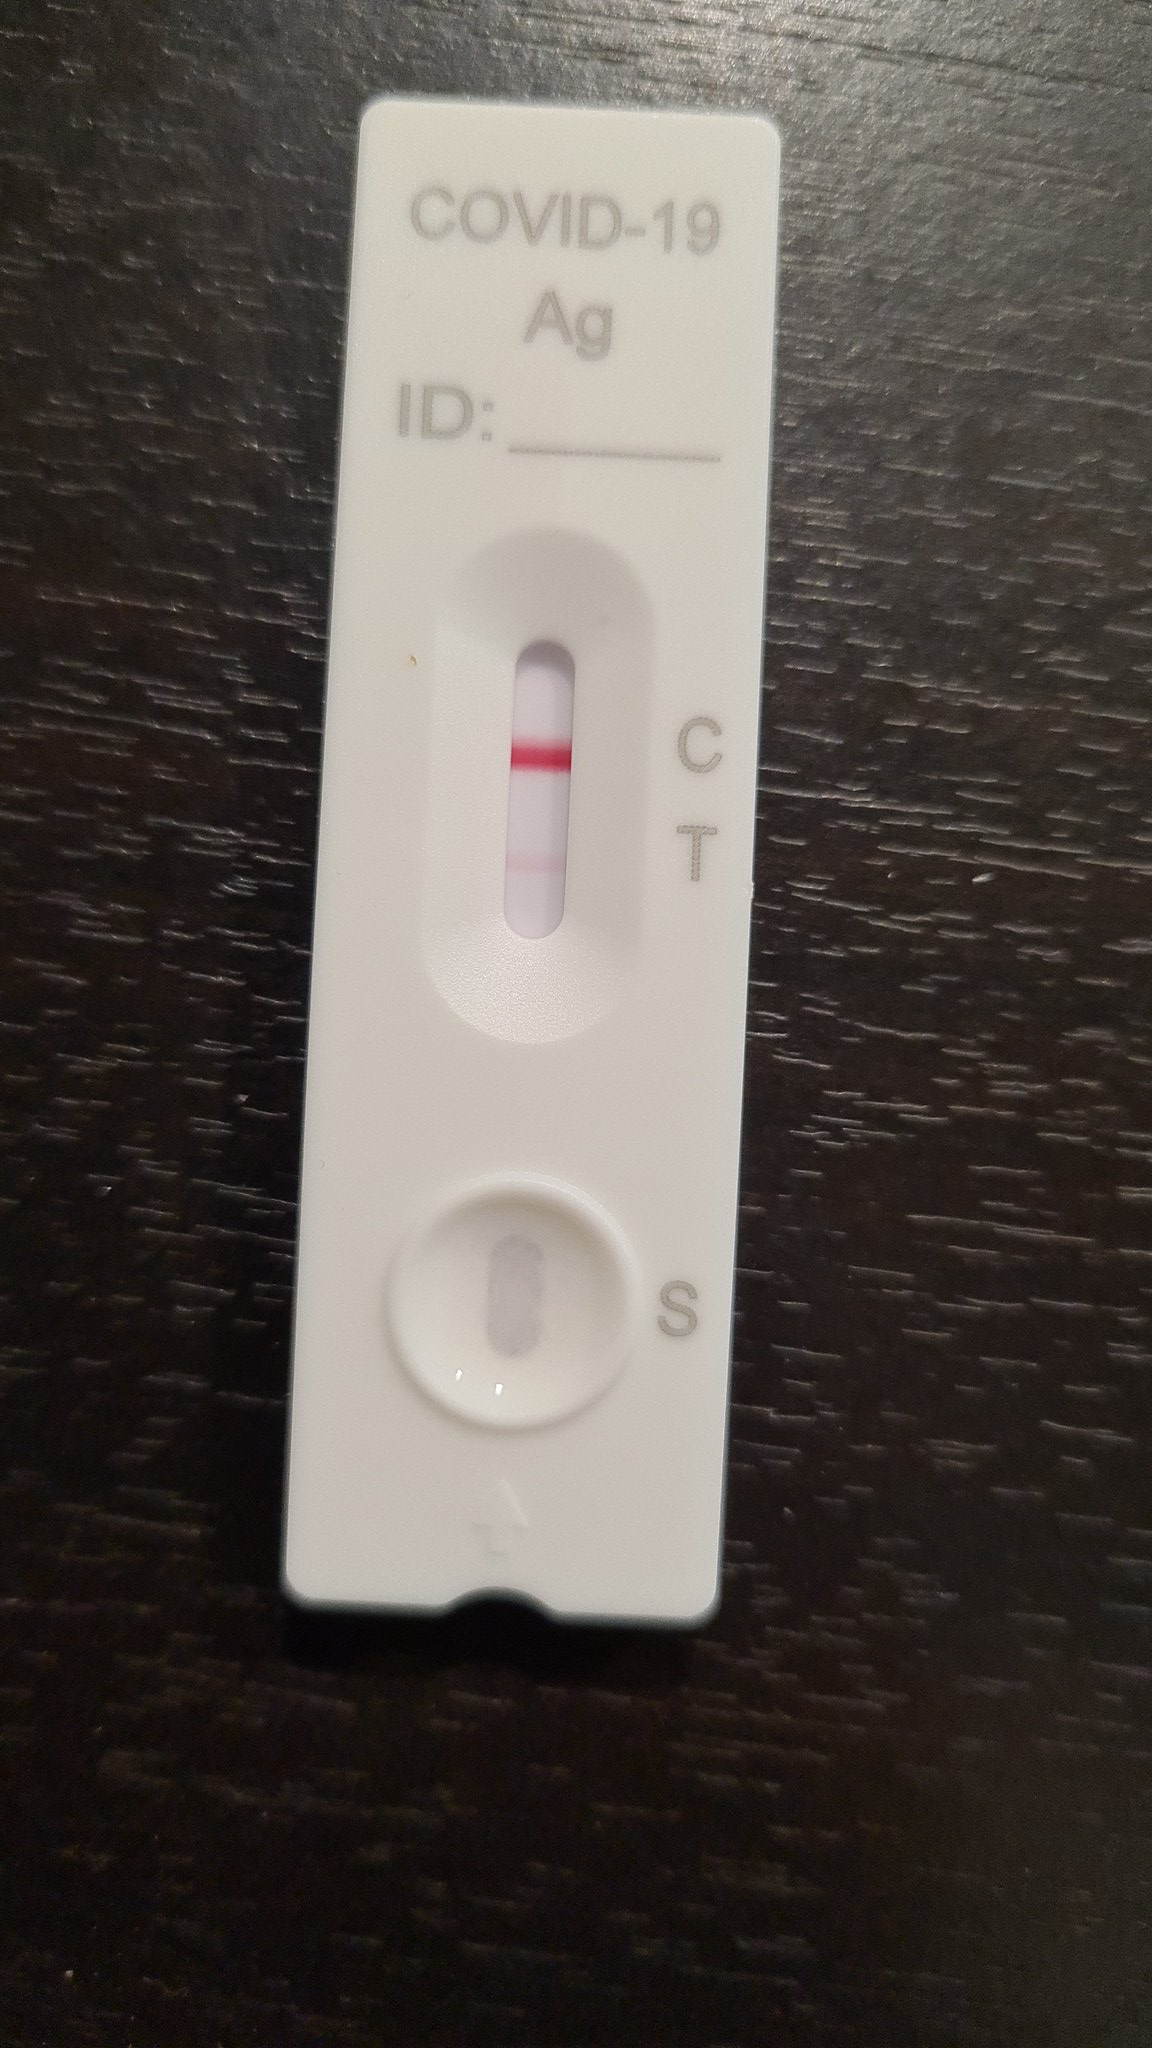positive: (481, 563, 605, 962)
